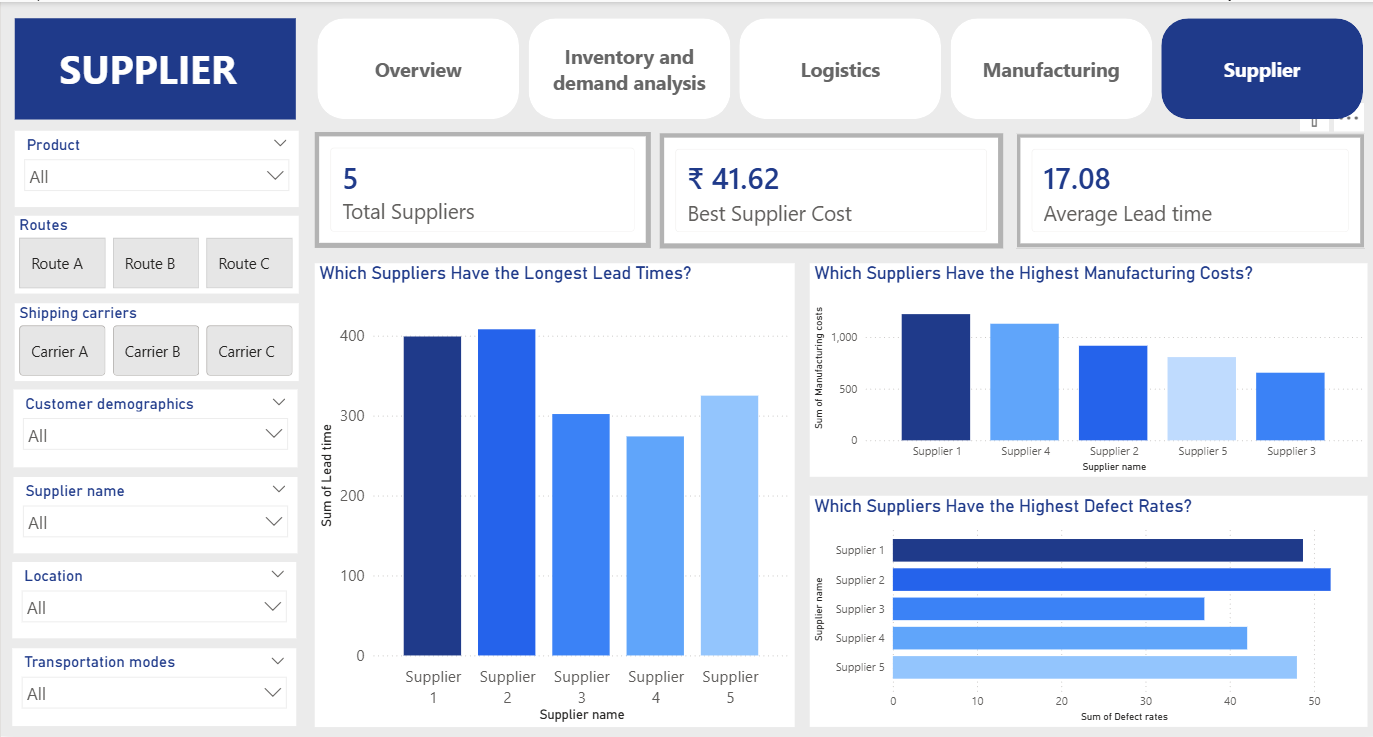

The dashboard page shown, as its layout file describes it:
{"tool":"powerbi","page":{"name":"Supplier","canvas":[1500,800],"ordinal":4},"visuals":[{"type":"clusteredColumnChart","title":"Which Suppliers Have the Highest Manufacturing Costs?","fields":{"Category":["Sheet2.Supplier name"],"Y":["Sum(Sheet2.Manufacturing costs)"]},"box":[881.6,284.8,607.7,233],"z":0},{"type":"clusteredBarChart","title":"Which Suppliers Have the Highest Defect Rates?","fields":{"Category":["Sheet2.Supplier name"],"Y":["Sum(Sheet2.Defect rates)"]},"box":[881.6,538.2,607.7,252.1],"z":1000},{"type":"clusteredColumnChart","title":"Which Suppliers Have the Longest Lead Times?","fields":{"Y":["Sum(Sheet2.Lead time)"],"Category":["Sheet2.Supplier name"]},"box":[342,284.8,523.3,505.5],"z":2000},{"type":"cardVisual","fields":{"Data":["Sheet2.Best Supplier Cost"]},"box":[718.1,143.1,374.7,125.4],"z":3000},{"type":"cardVisual","fields":{"Data":["Avg(Sheet2.Lead time)"]},"box":[1106.5,143.1,380.2,125.4],"z":4000},{"type":"textbox","box":[15,17.7,306.6,110.4],"z":5000},{"type":"cardVisual","fields":{"Data":["Sheet2.Total Suppliers"]},"box":[342,141.7,366.6,126.7],"z":6000},{"type":"pageNavigator","box":[344.8,17.7,1141.9,110.4],"z":7000},{"type":"slicer","fields":{"Values":["Sheet2.Product "]},"box":[15,140.4,309.3,83.1],"z":8000},{"type":"advancedSlicerVisual","fields":{"Values":["Sheet2.Routes"]},"box":[15,233,309.3,84.5],"z":9000},{"type":"slicer","fields":{"Values":["Sheet2.Supplier name"]},"box":[13.6,517.8,309.3,83.1],"z":10000},{"type":"slicer","fields":{"Values":["Sheet2.Location"]},"box":[12.3,610.5,309.3,83.1],"z":11000},{"type":"advancedSlicerVisual","fields":{"Values":["Sheet2.Shipping carriers"]},"box":[15,328.4,309.3,84.5],"z":12000},{"type":"slicer","fields":{"Values":["Sheet2.Customer demographics"]},"box":[13.6,422.4,309.3,84.5],"z":13000},{"type":"slicer","fields":{"Values":["Sheet2.Transportation modes"]},"box":[12.3,704.5,309.3,84.5],"z":14000},{"type":"textbox","box":[58.6,38.2,224.8,66.8],"z":15000}]}

Visuals, with their boxes on the page's 1500x800 design canvas (x1, y1, x2, y2). These are canvas units, not pixel positions in the 1373x737 screenshot, which may show the page scaled, cropped or inside an application window:
"Which Suppliers Have the Highest Manufacturing Costs?" clusteredColumnChart: [x1=882, y1=285, x2=1489, y2=518]
"Which Suppliers Have the Highest Defect Rates?" clusteredBarChart: [x1=882, y1=538, x2=1489, y2=790]
"Which Suppliers Have the Longest Lead Times?" clusteredColumnChart: [x1=342, y1=285, x2=865, y2=790]
cardVisual - Sheet2.Best Supplier Cost: [x1=718, y1=143, x2=1093, y2=268]
cardVisual - Avg(Sheet2.Lead time): [x1=1106, y1=143, x2=1487, y2=268]
textbox: [x1=15, y1=18, x2=322, y2=128]
cardVisual - Sheet2.Total Suppliers: [x1=342, y1=142, x2=709, y2=268]
pageNavigator: [x1=345, y1=18, x2=1487, y2=128]
slicer - Sheet2.Product : [x1=15, y1=140, x2=324, y2=224]
advancedSlicerVisual - Sheet2.Routes: [x1=15, y1=233, x2=324, y2=318]
slicer - Sheet2.Supplier name: [x1=14, y1=518, x2=323, y2=601]
slicer - Sheet2.Location: [x1=12, y1=610, x2=322, y2=694]
advancedSlicerVisual - Sheet2.Shipping carriers: [x1=15, y1=328, x2=324, y2=413]
slicer - Sheet2.Customer demographics: [x1=14, y1=422, x2=323, y2=507]
slicer - Sheet2.Transportation modes: [x1=12, y1=704, x2=322, y2=789]
textbox: [x1=59, y1=38, x2=283, y2=105]
